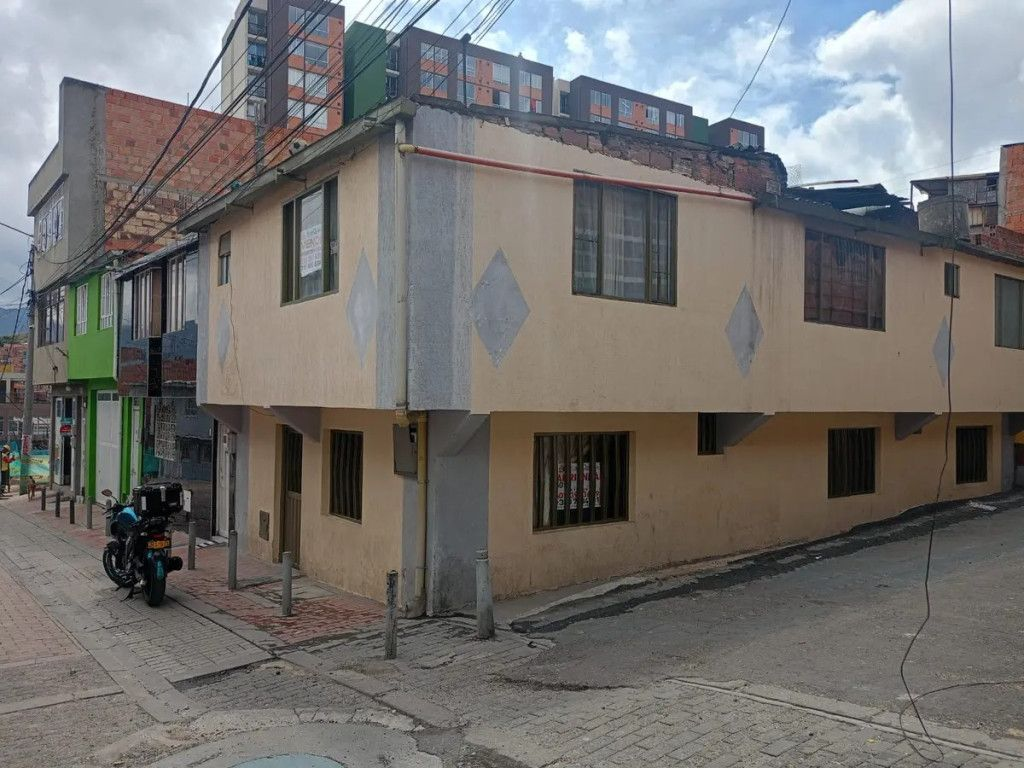House: (184, 159, 1024, 607), (29, 116, 124, 509), (107, 245, 221, 551)
